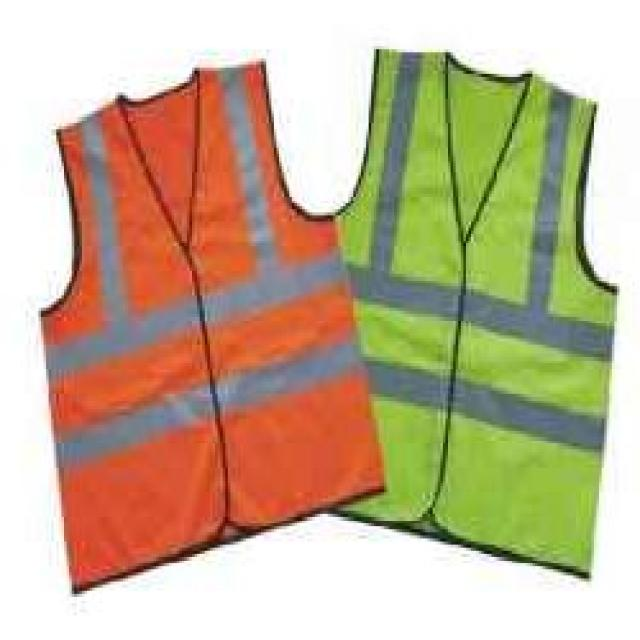Reflective-Jacket: (13, 37, 389, 600), (304, 24, 640, 603)
